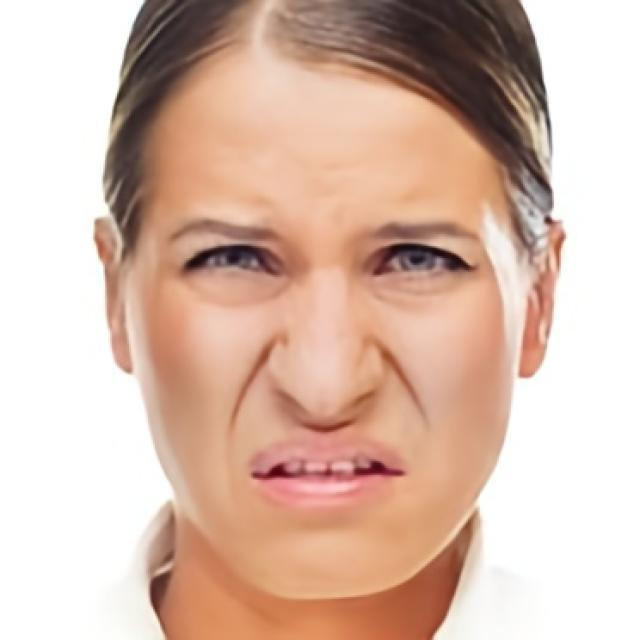disgust: (140, 55, 520, 602)
